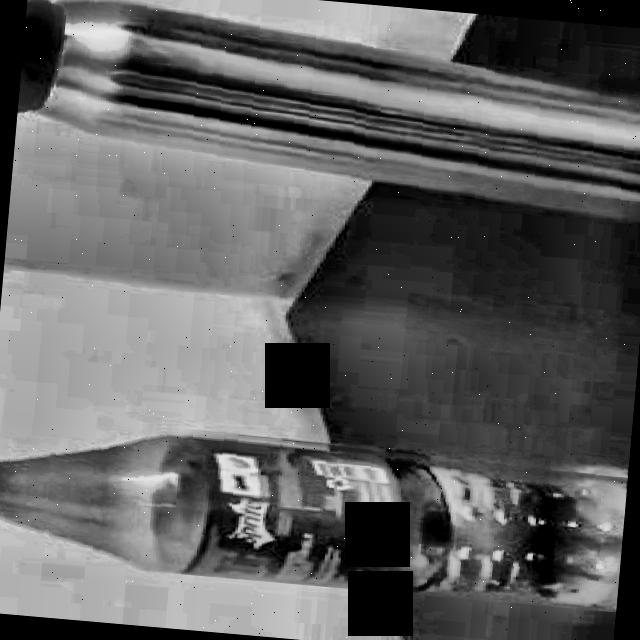bottle: (17, 0, 640, 224), (0, 431, 626, 607)
